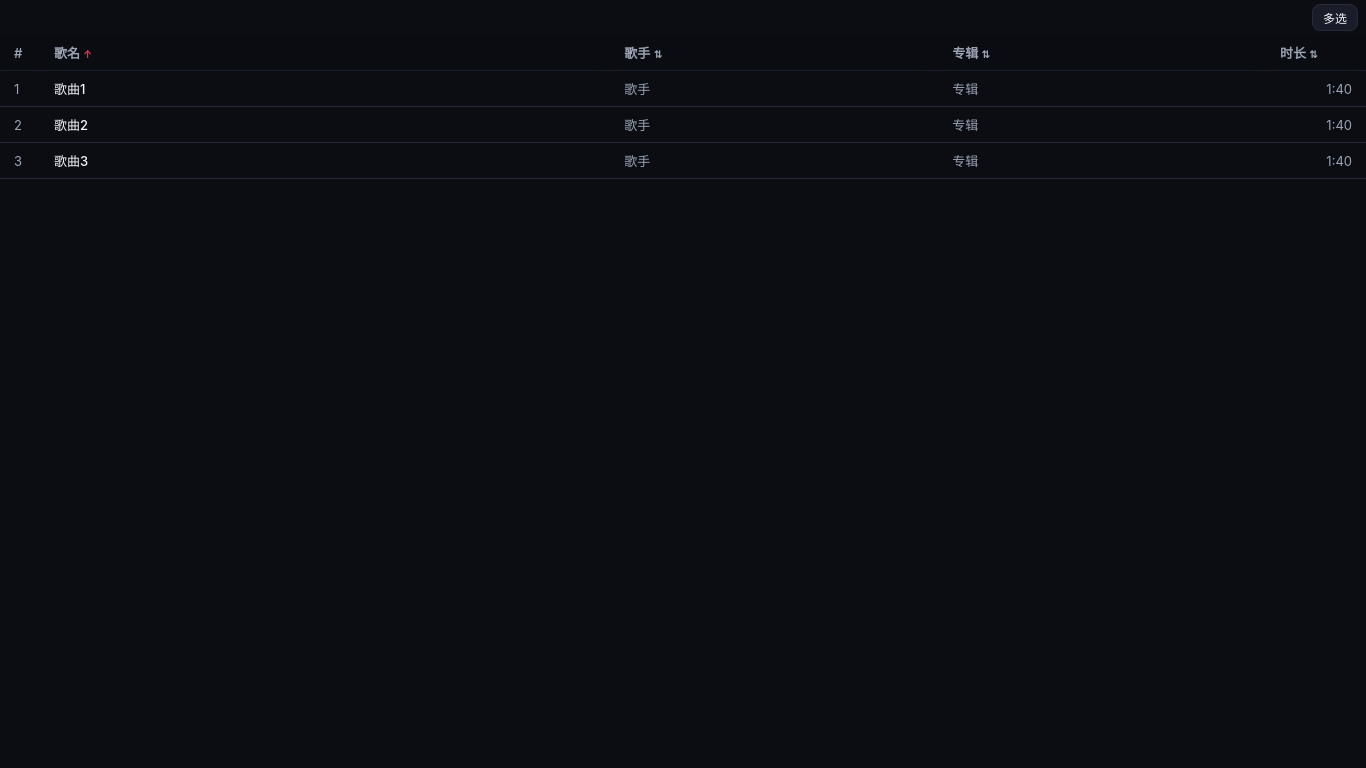
Test case: MusicList 右键菜单（已定型的四项交互） › 「添加到收藏」打开收藏选择器
Right-click the text "歌曲1".
right_click(683, 88)  # box [0,70,1365,106]
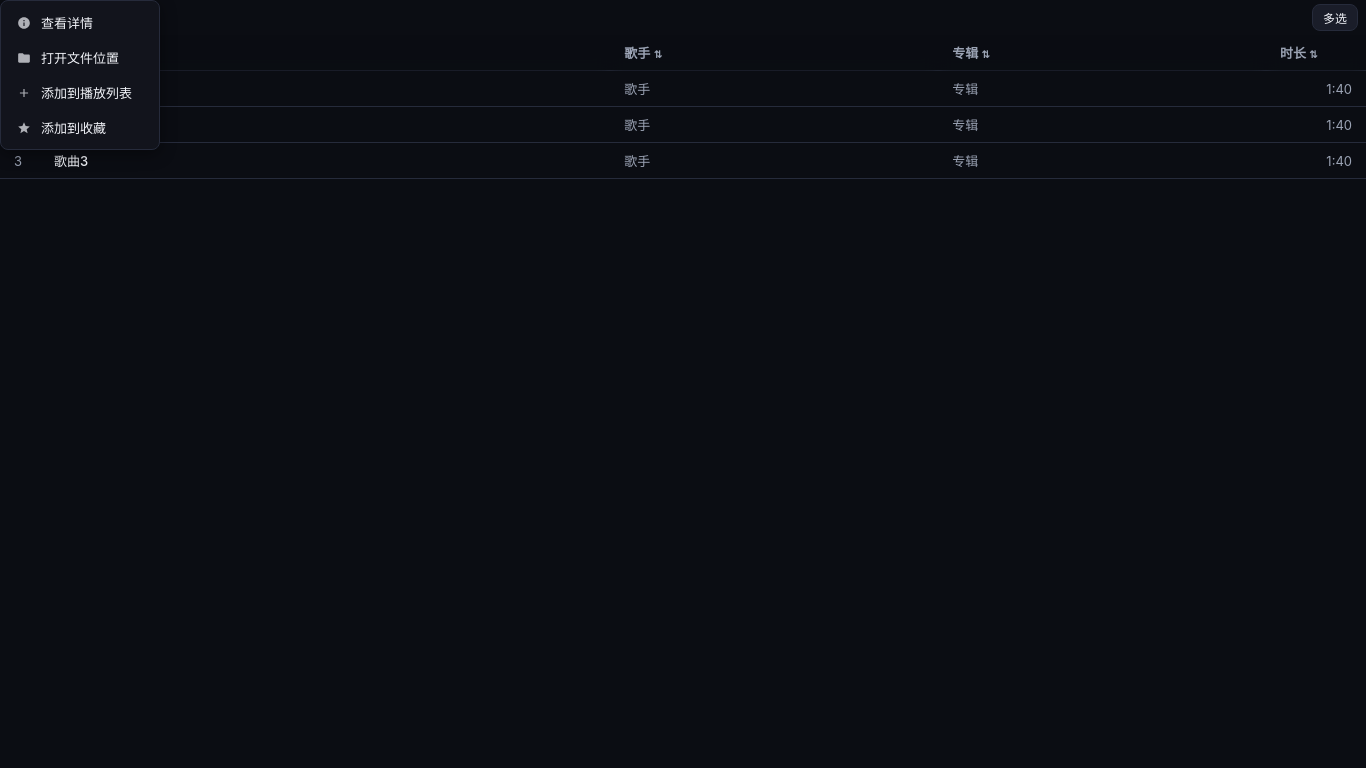
Click the text "添加到收藏".
click(62, 128)  # box [17,120,106,136]
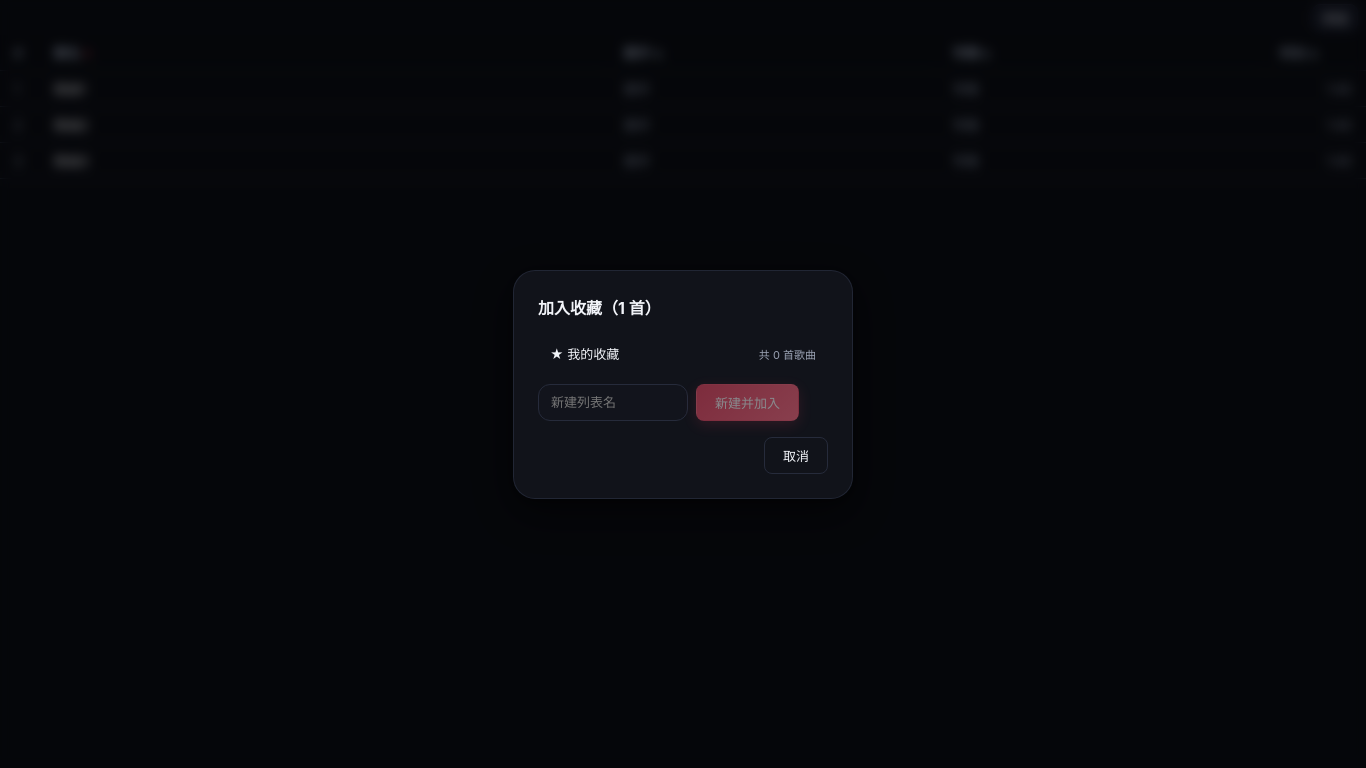
Check: the text "★ 我的收藏" is shown, box [550,344,619,362]
